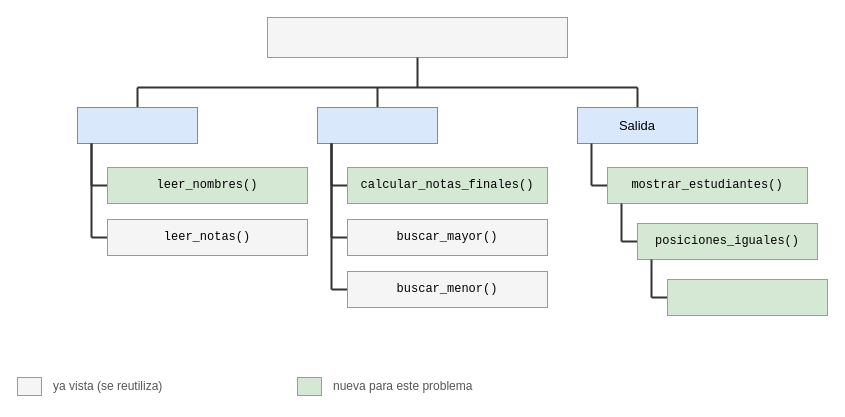
Some shapes in this 845 by 417 pixel diagram are drawn without their labels. Here are the shapes that lost their labels. From the top down, the box of each, then its label:
(266, 16, 568, 58): Programa: notas finales del curso
(76, 106, 198, 144): Entrada
(316, 106, 438, 144): Proceso
(666, 278, 828, 316): contar_iguales()
